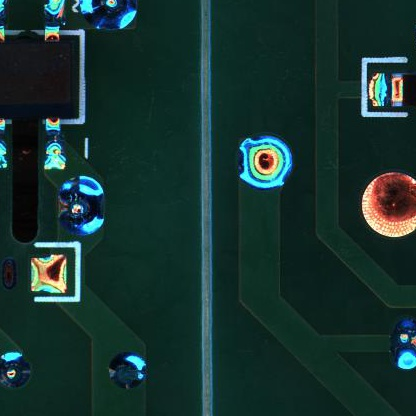spot: (235, 132, 295, 190), (56, 173, 109, 237)
